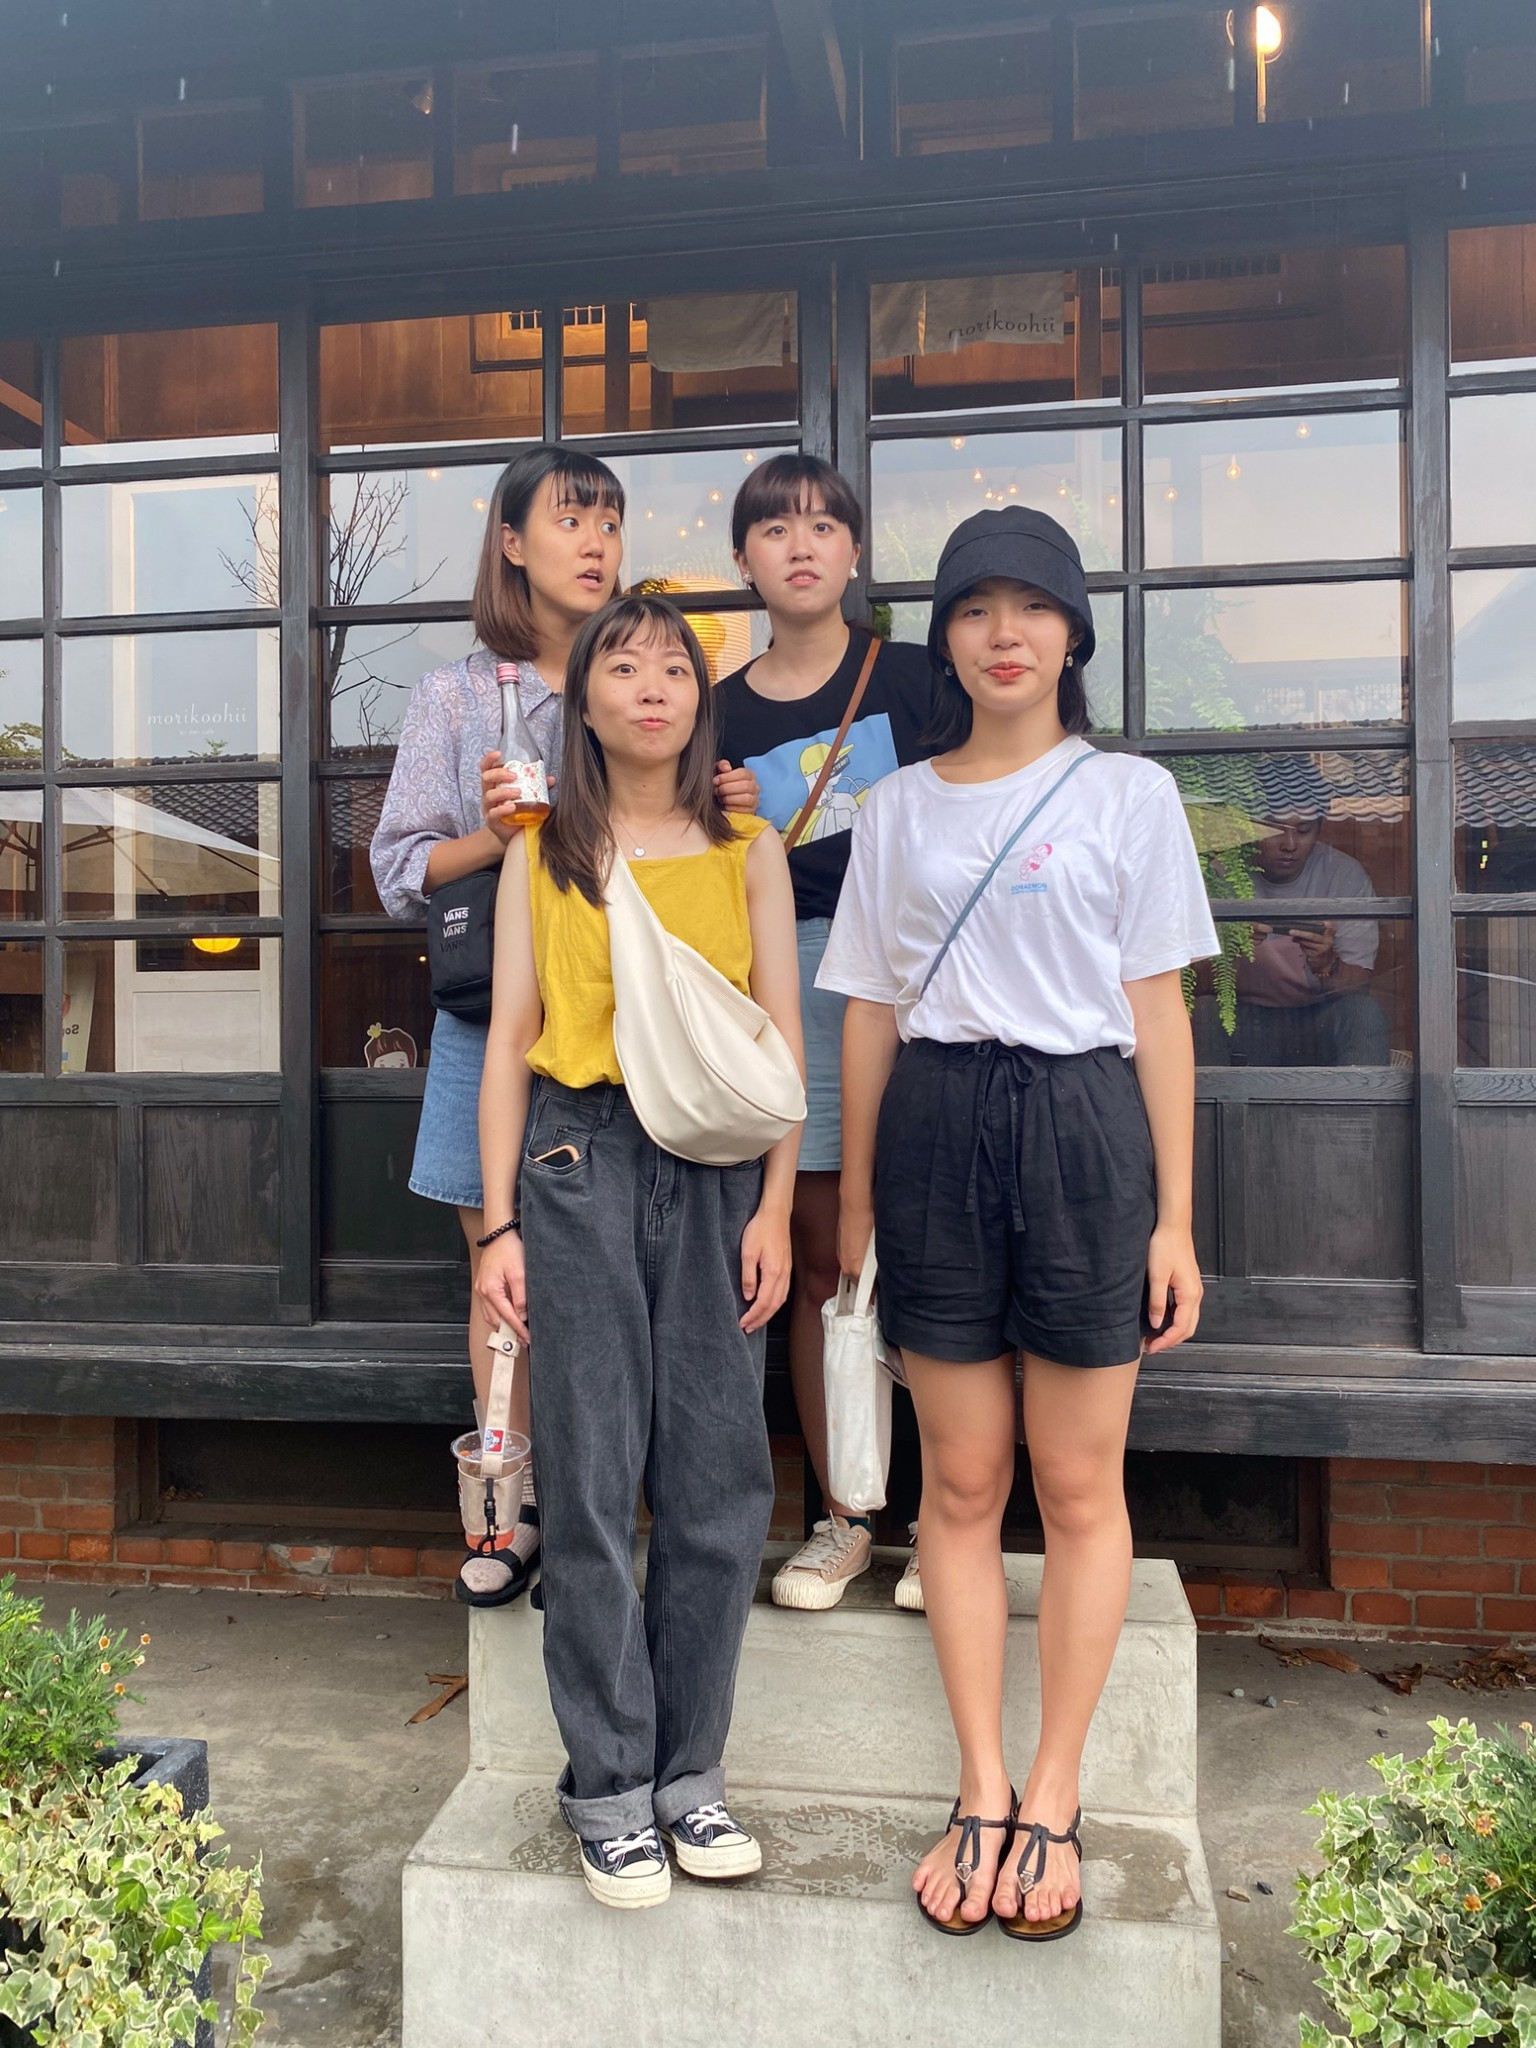people: (895, 515, 1147, 1941), (721, 460, 986, 1609), (547, 602, 760, 1889), (450, 454, 656, 1602)
